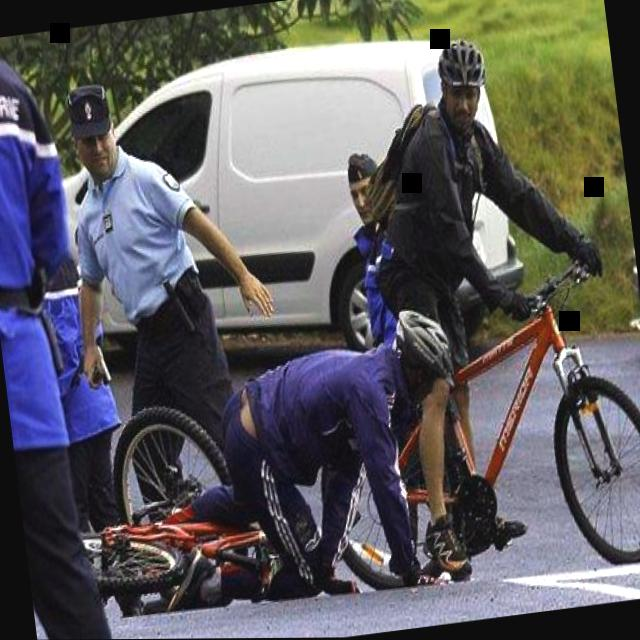Fall-Detected: (148, 299, 484, 608)
